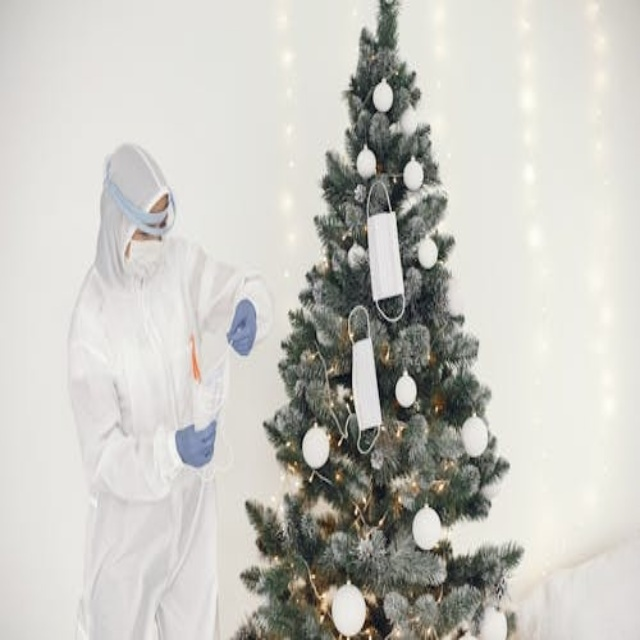Guantes: (174, 415, 224, 469), (223, 296, 256, 363)
Mascara: (119, 233, 169, 286)
